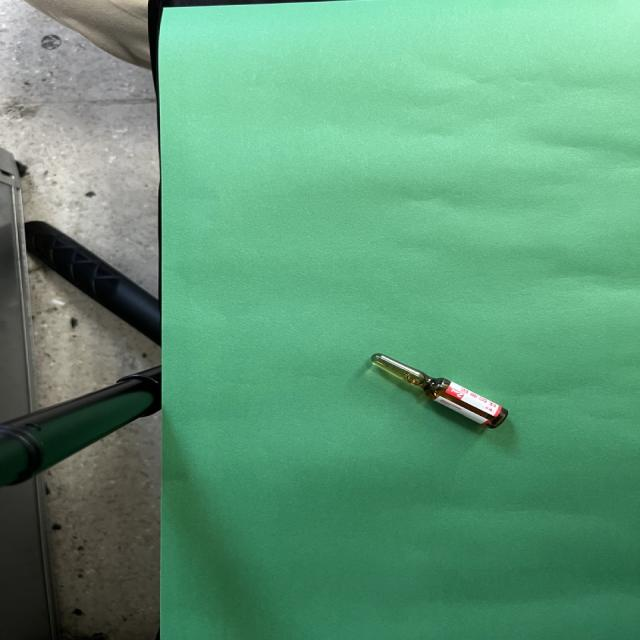Ampoules: (371, 353, 509, 429)
